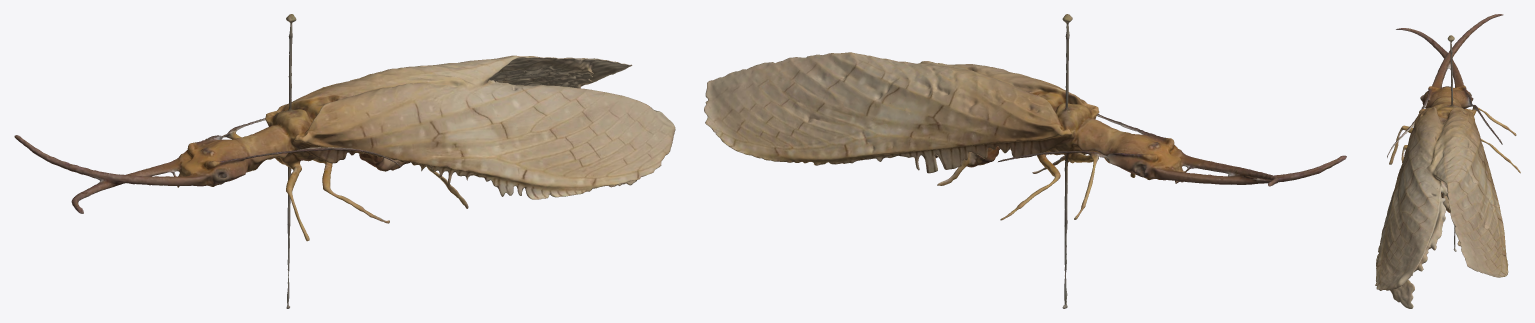
3 renders of one model, left to right at view 1: azimuth 30°, elevation 25°; view 2: azimuth 150°, elevation 25°; view 3: azimuth 270°, elevation 25°, orthographic. The views are drawn at different scales.
Visible parts, largest first — view 1: Corydalus_affinis-unwrapped-webmulti; view 2: Corydalus_affinis-unwrapped-webmulti; view 3: Corydalus_affinis-unwrapped-webmulti.
Boxes of the visible parts, left/top/right/bottom form: Corydalus_affinis-unwrapped-webmulti: left=14, top=14, right=675, bottom=308; Corydalus_affinis-unwrapped-webmulti: left=704, top=14, right=1346, bottom=308; Corydalus_affinis-unwrapped-webmulti: left=1375, top=14, right=1520, bottom=308.
Size of the model in its own units: 4915 by 2320 by 1417.
1 material, 1 textured.
